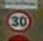limite 30: (4, 8, 32, 33)
